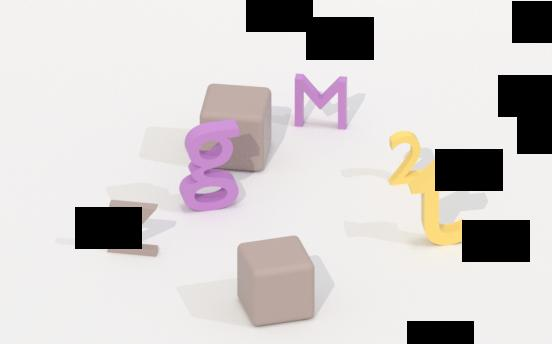2: (387, 126, 424, 187)
M-hoa: (292, 69, 351, 134)
g: (178, 117, 240, 217)
hop: (234, 233, 319, 329), (196, 80, 274, 177)
t: (410, 160, 471, 249)
z: (104, 193, 163, 260)
